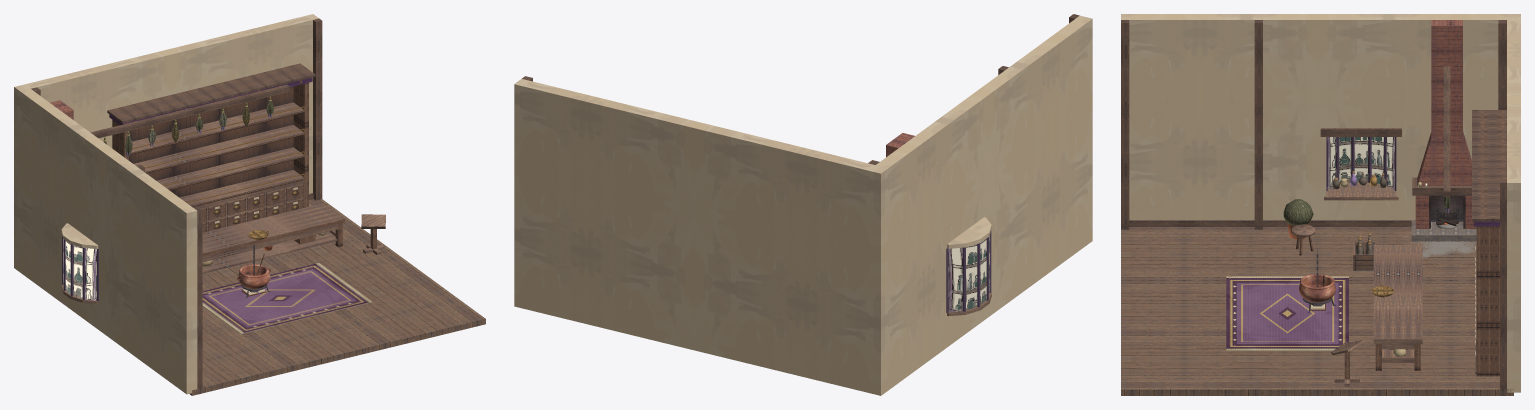
Rendered from apothecary-room.glb.
3 views of the same model, side by side, from view 1: azimuth 30°, elevation 25°; view 2: azimuth 150°, elevation 25°; view 3: azimuth 270°, elevation 25° (orthographic). The views are drawn at different scales.
Parts seen in each view (by area): view 1: shell, furniture, herbs, vessel; view 2: shell; view 3: shell, furniture, herbs, vessel.
Boxes of the visible parts, bbox=[...] form: shell: bbox=[14, 14, 485, 395]; furniture: bbox=[107, 63, 385, 273]; herbs: bbox=[90, 84, 289, 156]; vessel: bbox=[237, 253, 270, 297]; shell: bbox=[514, 14, 1092, 395]; shell: bbox=[1121, 14, 1520, 395]; furniture: bbox=[1283, 110, 1506, 386]; herbs: bbox=[1443, 66, 1450, 213]; vessel: bbox=[1299, 274, 1336, 312].
Bounding box in the file's own units: 12.01 × 6.75 × 11.4.
53 materials, 30 textured.
